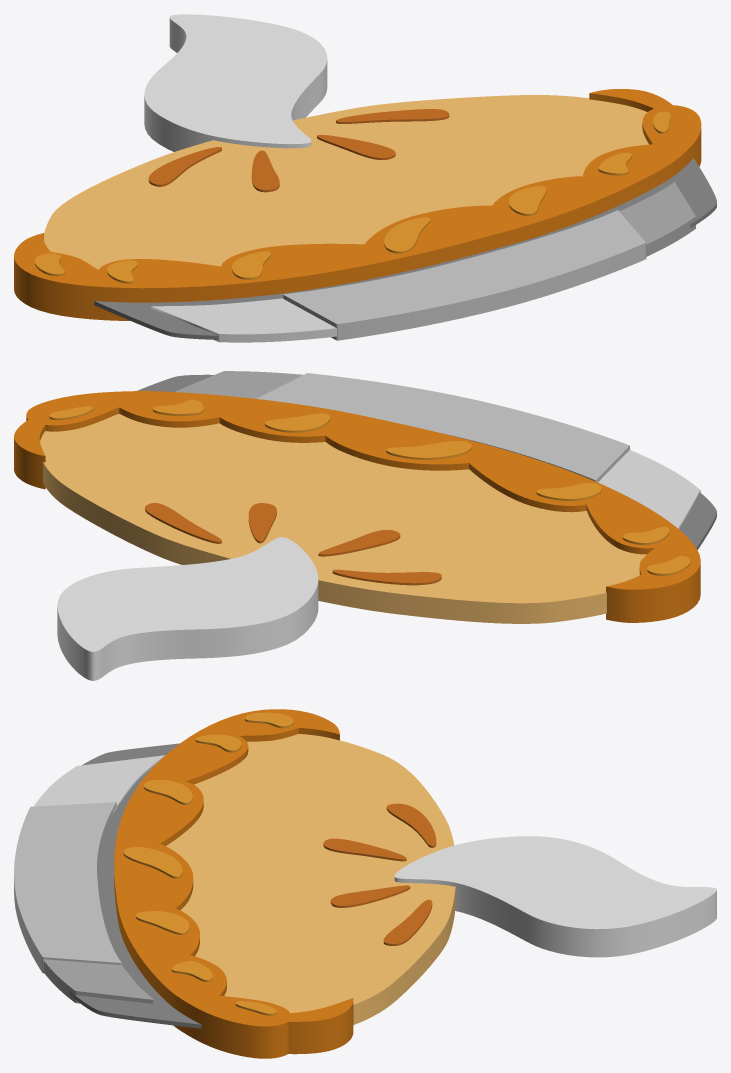
File: emoji_u1f967.glb
3 renders of one model, top to bottom at view 1: azimuth 30°, elevation 25°; view 2: azimuth 150°, elevation 25°; view 3: azimuth 270°, elevation 25°, orthographic. The views are drawn at different scales.
Parts seen in each view (by area): view 1: emoji_u1f967; view 2: emoji_u1f967; view 3: emoji_u1f967.
Part boxes in pixels (x1,y1,x2,y2): emoji_u1f967: (14,14,716,342); emoji_u1f967: (14,371,716,680); emoji_u1f967: (14,709,716,1058).
Bounding box in the file's own units: 0.0337 × 0.0018 × 0.0316.
